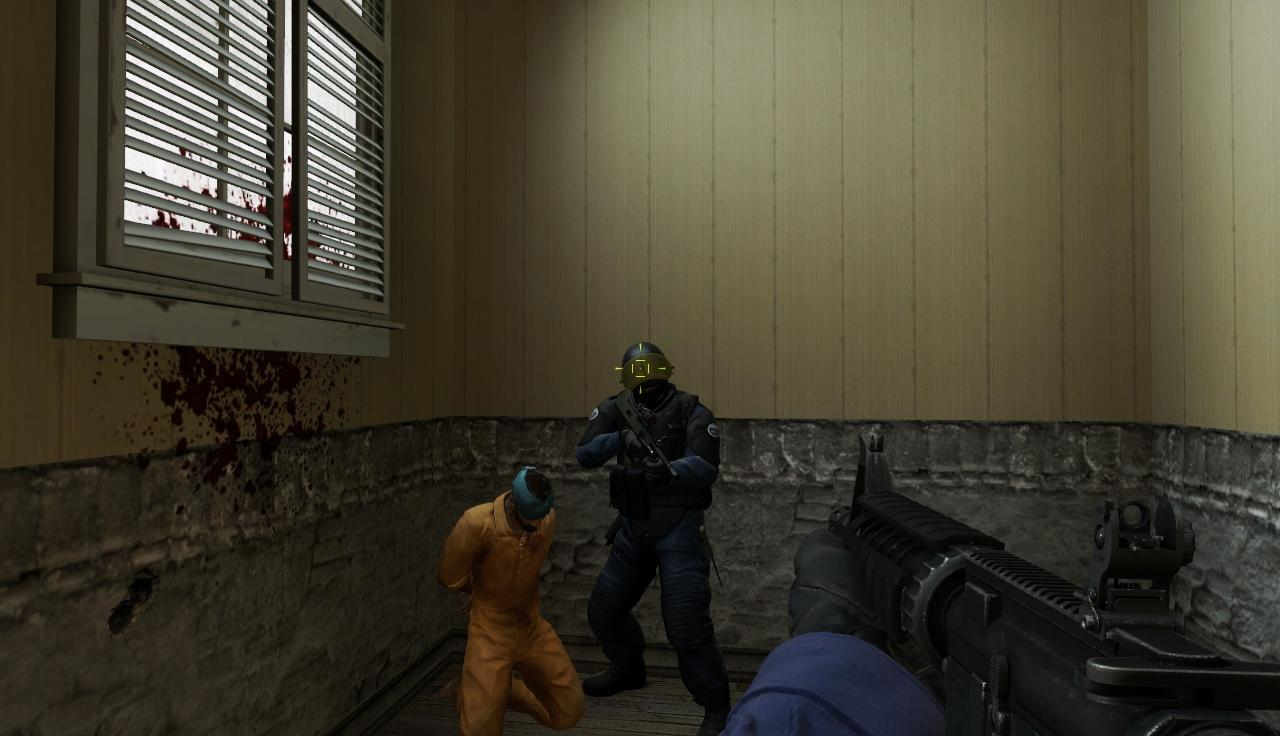ct: (595, 340, 715, 706)
cthead: (619, 340, 672, 398)
rifle: (819, 431, 1280, 736)
